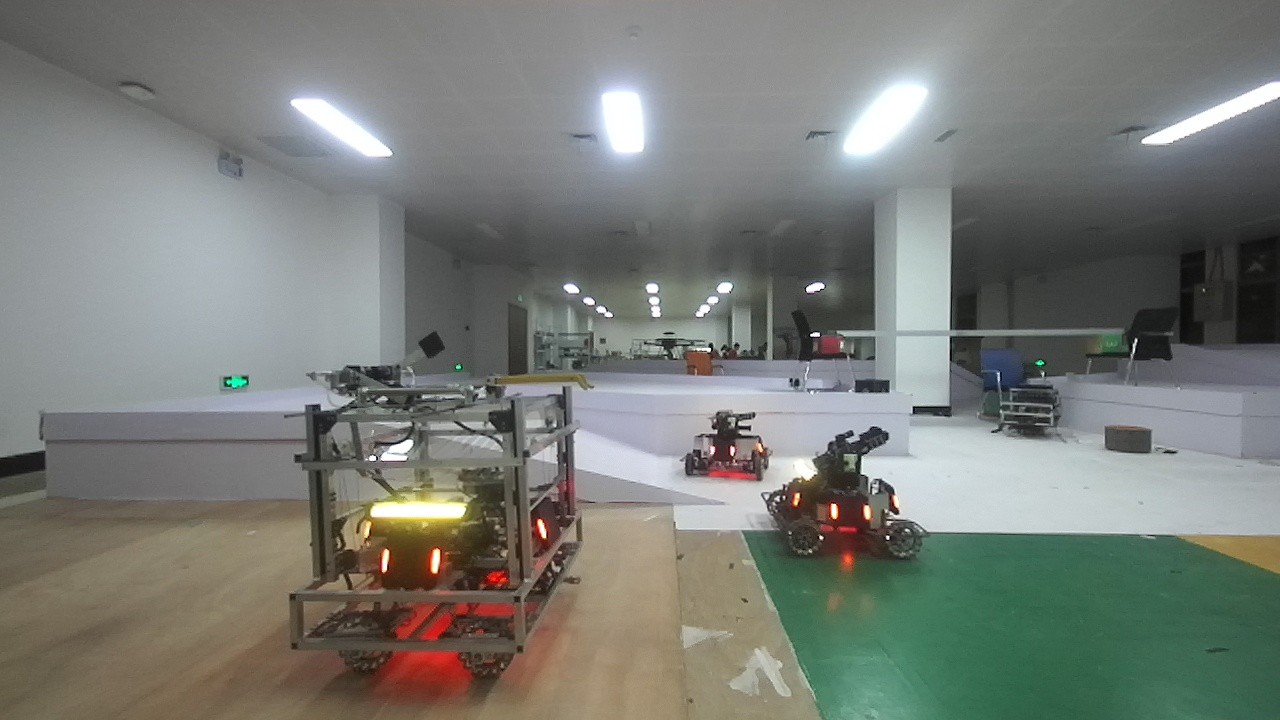car: (290, 368, 589, 696), (762, 429, 932, 560), (683, 395, 775, 484)
